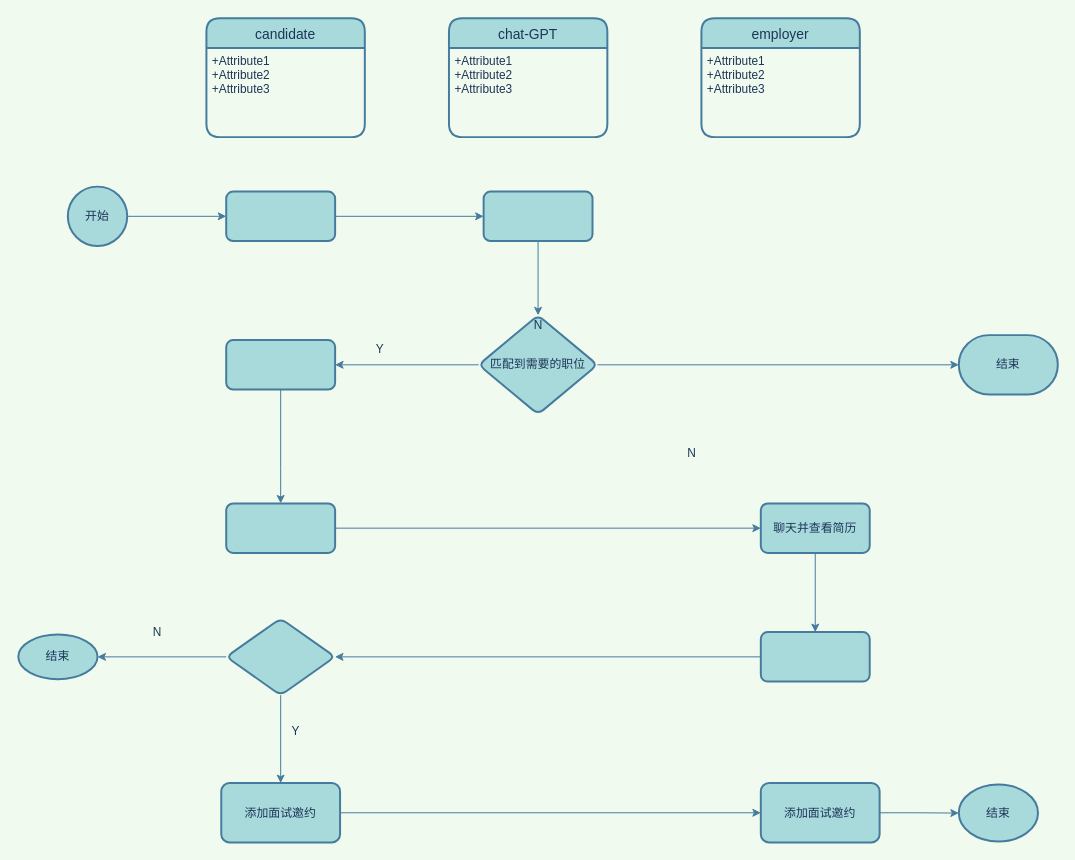
Image size: 1075x860. Some labels were removed from this diagram. The shapes that lost their labels are listed below. From the top down, each one's box as (x1, y1, x2, y2) in pixels, then its label:
(225, 190, 336, 242): 搜索职位
(482, 190, 593, 242): AI推荐职位
(225, 339, 336, 390): 选择，并查看
(225, 502, 336, 553): 发起聊天
(225, 617, 336, 696): 是否同意
(759, 631, 870, 682): 发起面试邀约
